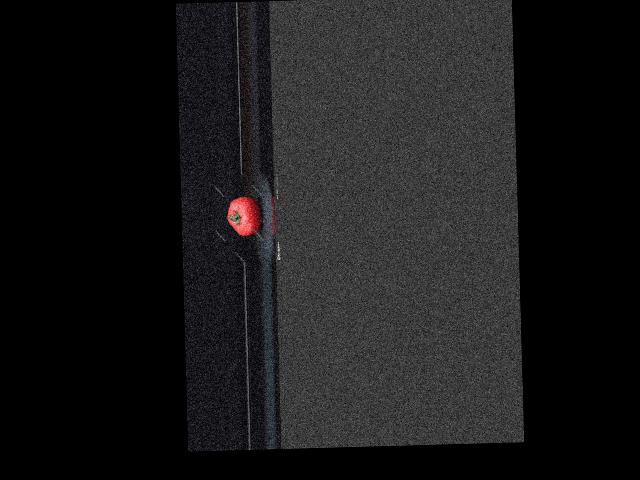tomato: (226, 195, 261, 236)
